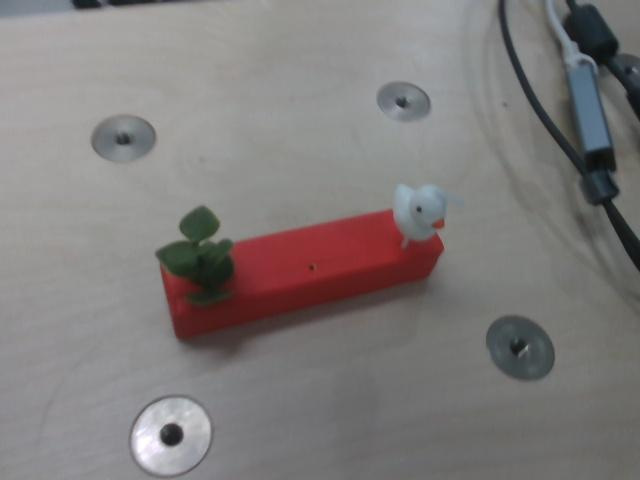leaf: (143, 195, 251, 309)
w_duck: (391, 181, 453, 247)
